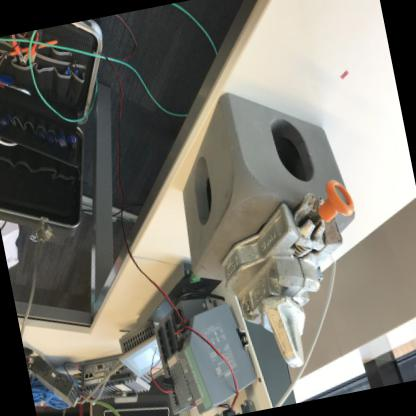CornerCasting: (161, 71, 359, 284)
Twistlock: (202, 172, 385, 379)
